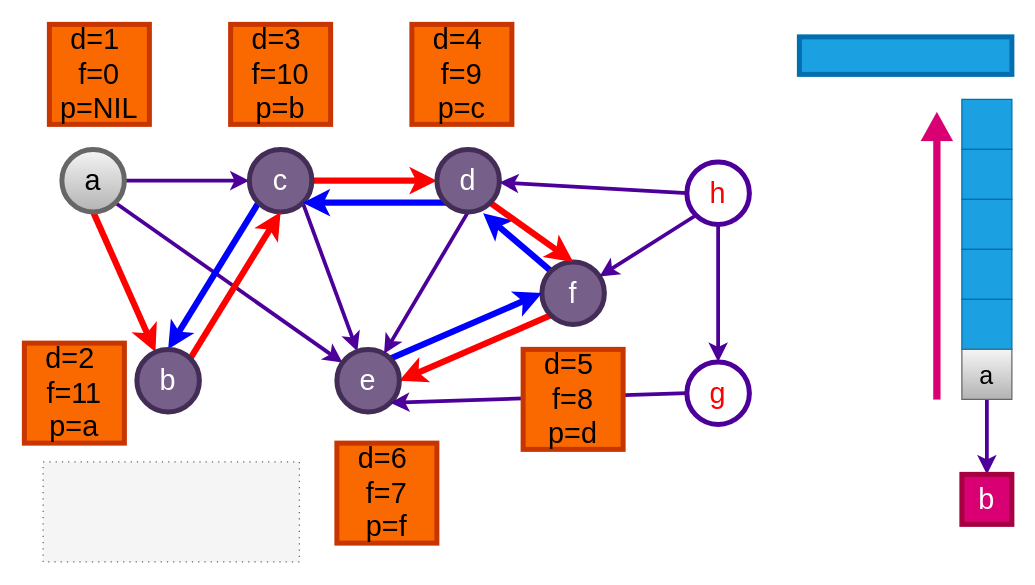
This 1035x585 diagram has some shape labels left out. The shapes that lost their labels are listed below. From the top down, each one's centre as x and y in pixels, then its label:
point (905, 55): STACK
point (170, 511): d=discovery time f=finish time p=parent node
